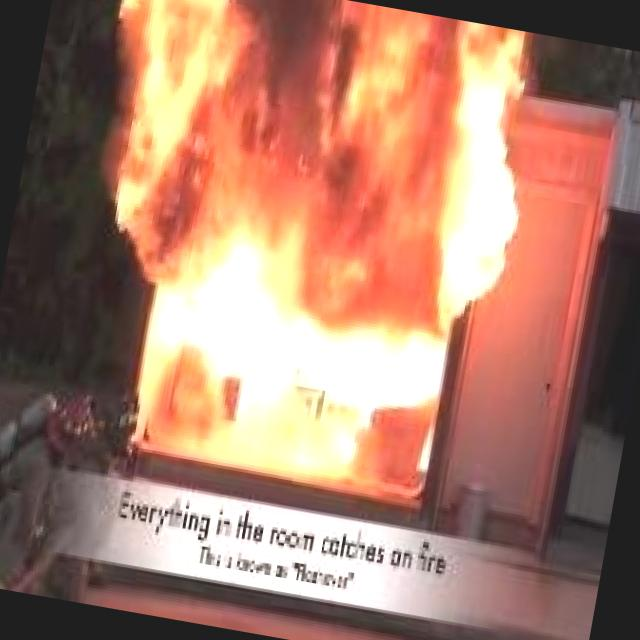fire: (20, 0, 591, 535)
